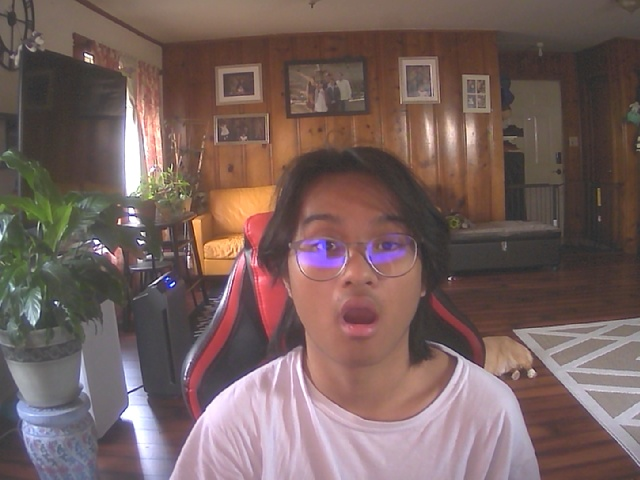fear: (276, 149, 449, 370)
